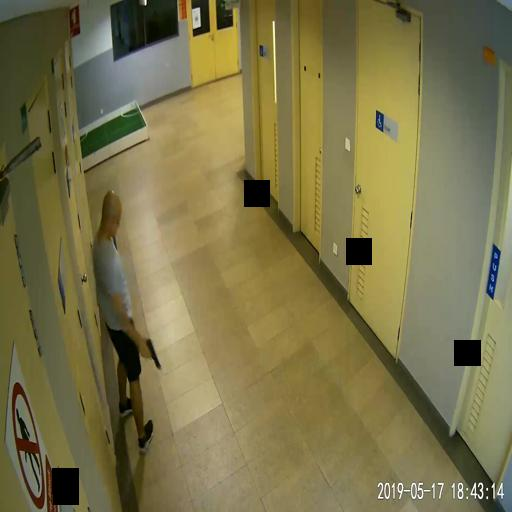Handgun: (141, 336, 159, 368)
